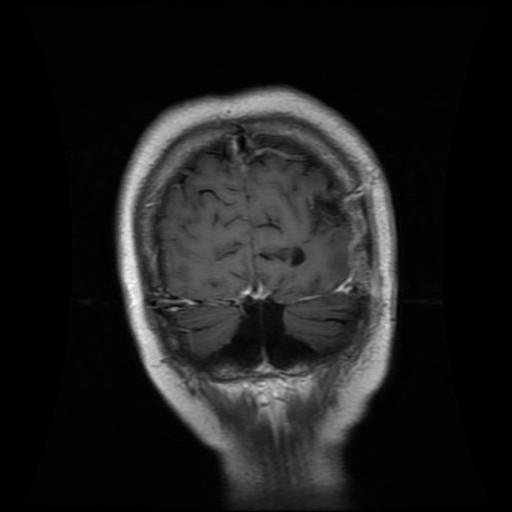Gliomia_tumour: (305, 186, 348, 237)
